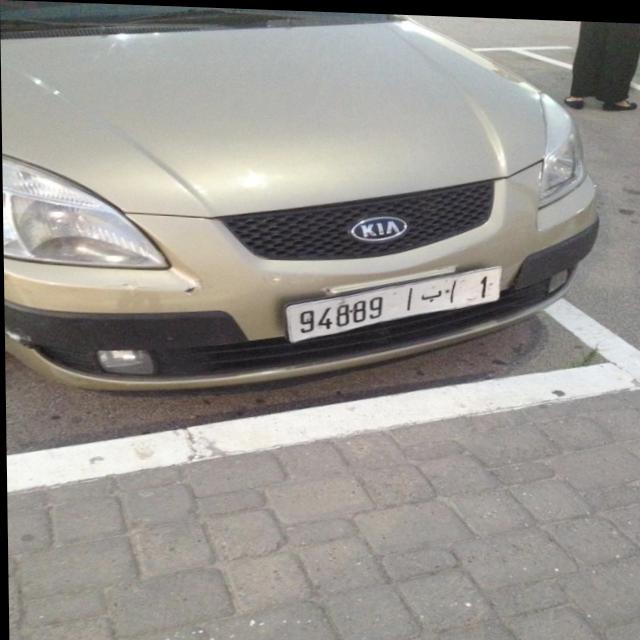License-Plate: (285, 264, 501, 340)
